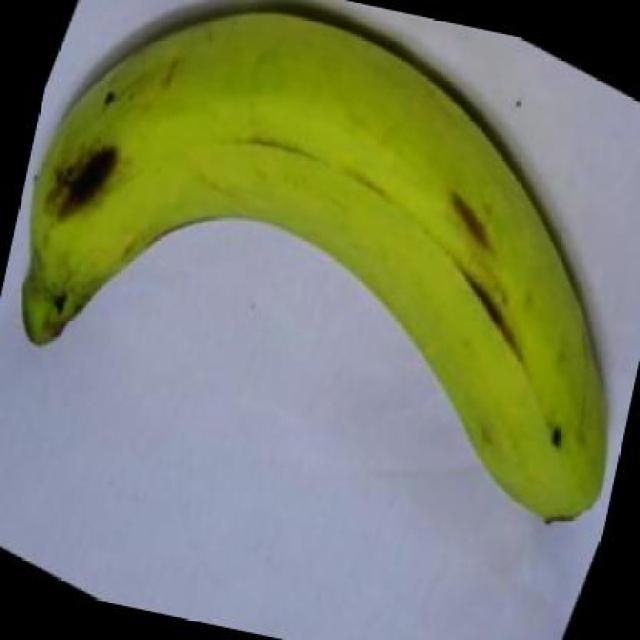unripe: (0, 0, 629, 546)
